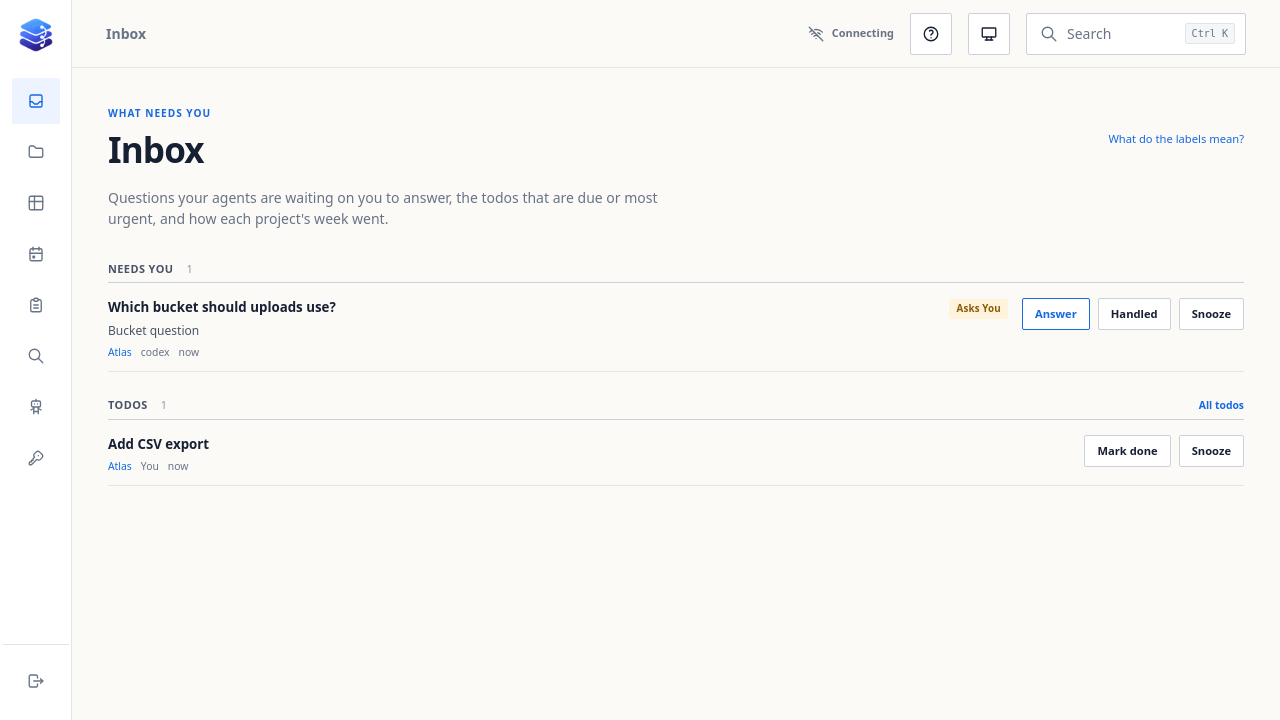
Test: inbox actions › answers a question inline: the reply is saved under it and marks it handled, with Undo
Expected: the button "Handled" is shown, 1098,298 -> 1171,330
Click the button "Answer" at point(1056, 314), box 1022,298 -> 1090,330
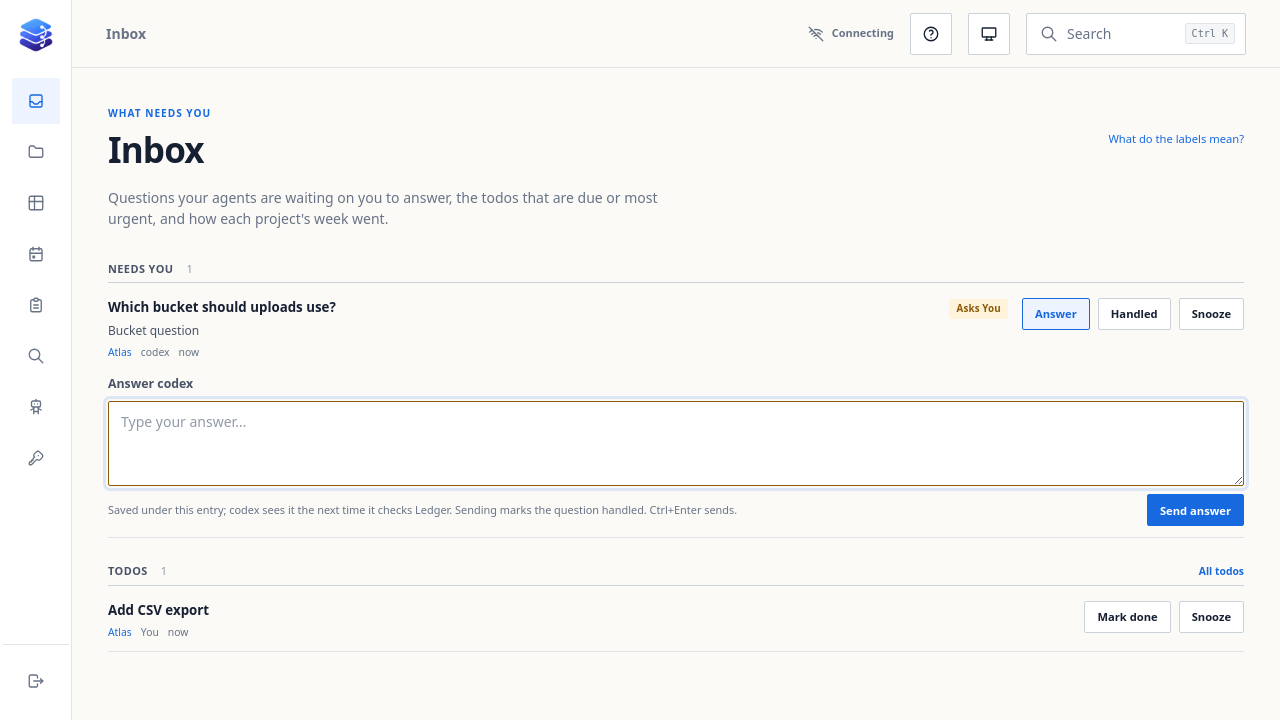
Type "Use the staging bucket" into the text box labelled "Answer codex" at point(676, 444), box 108,401 -> 1244,486
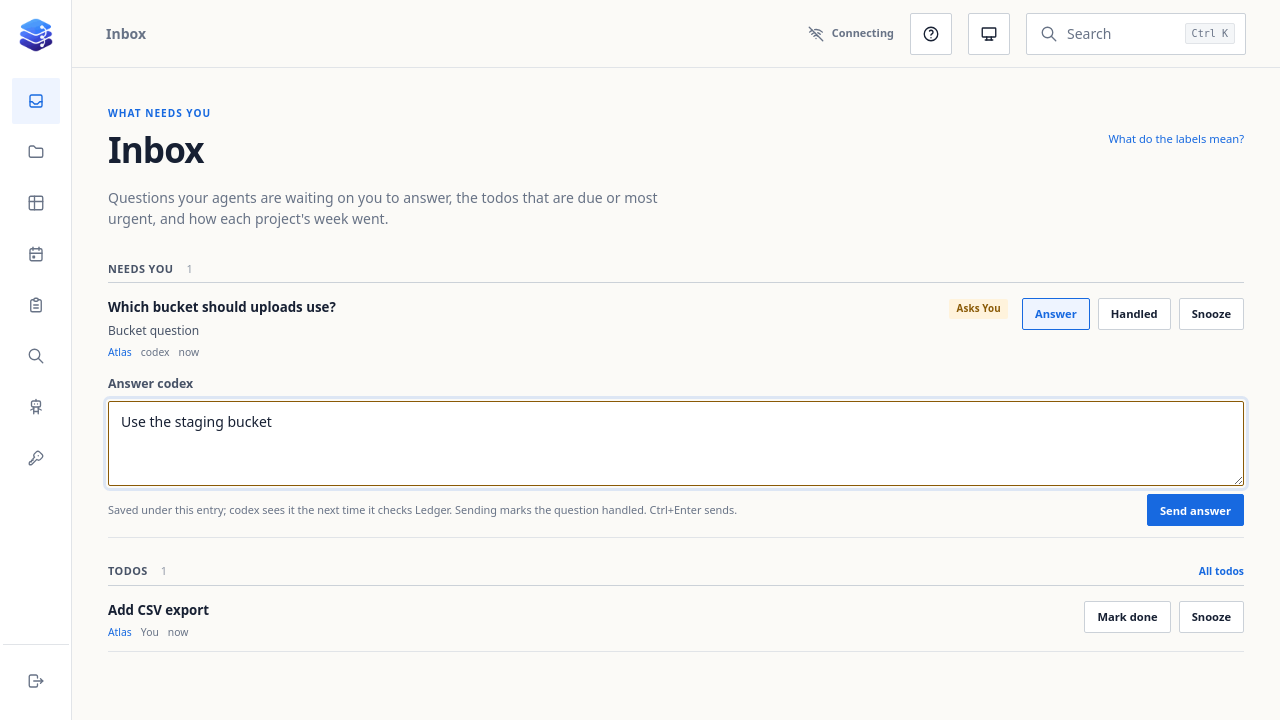
Click the button "Send answer" at point(1195, 510), box 1147,494 -> 1244,526
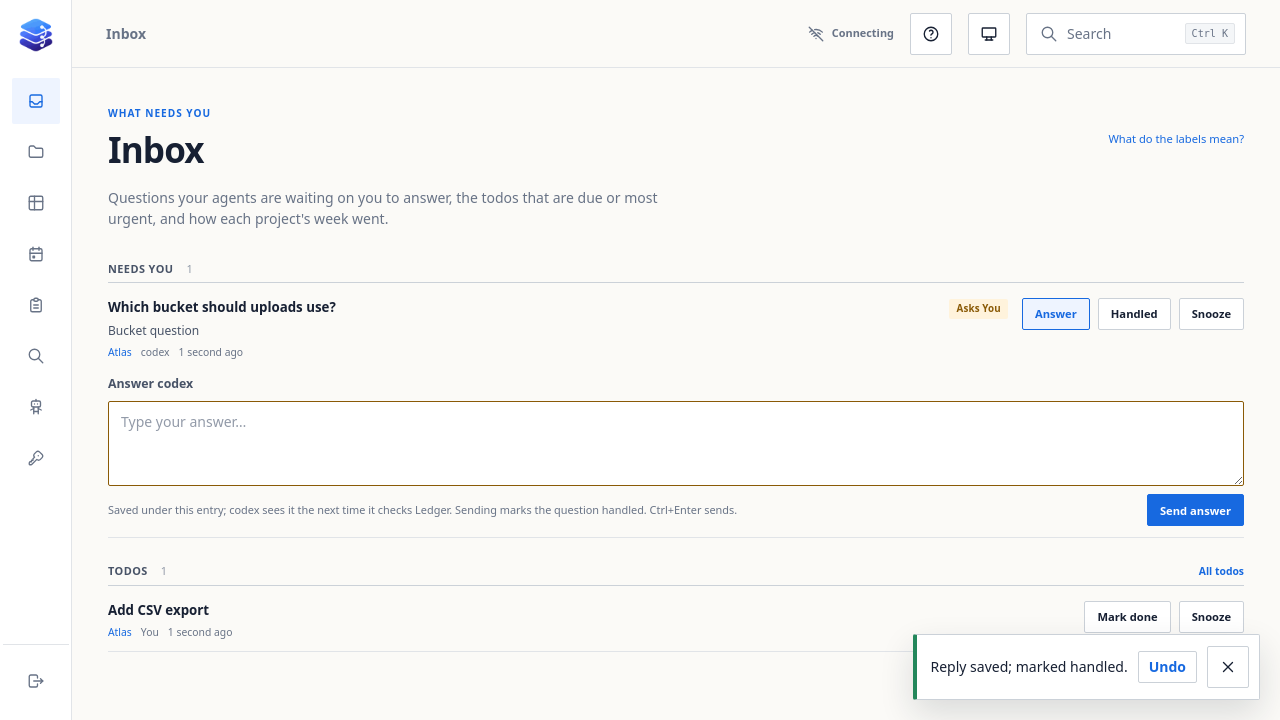
Result: the button "Undo" is shown at 1138,651 -> 1197,683
